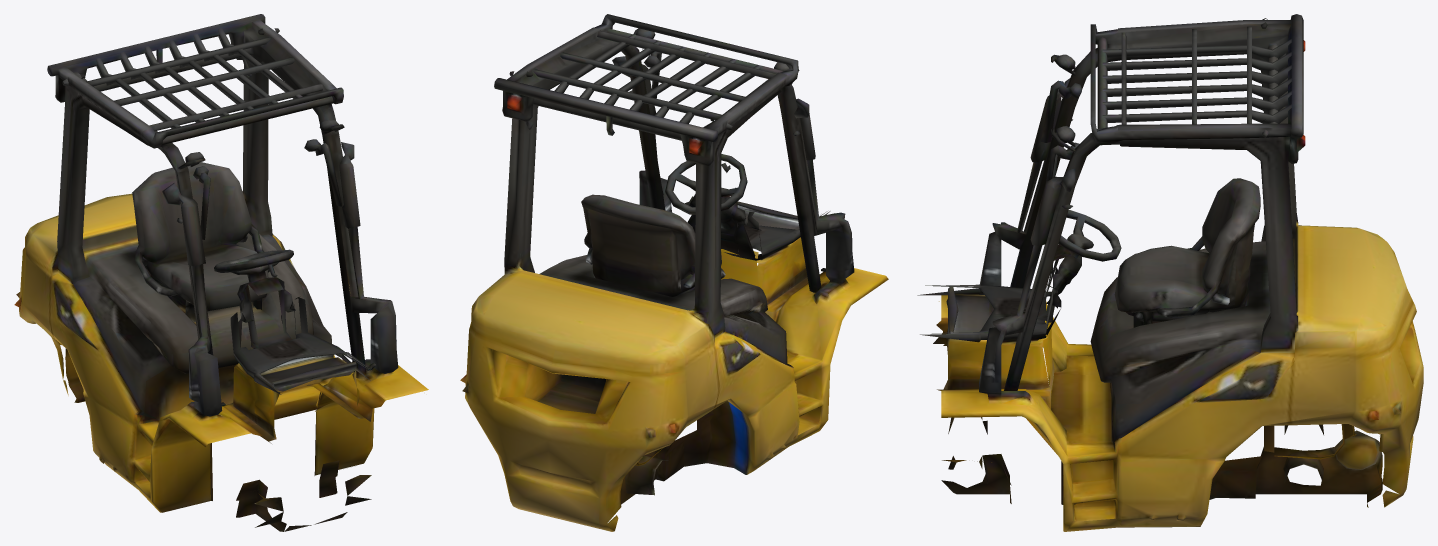
3 renders of one model, left to right at view 1: azimuth 30°, elevation 25°; view 2: azimuth 150°, elevation 25°; view 3: azimuth 270°, elevation 25°, orthographic. The views are drawn at different scales.
Visible parts, largest first — view 1: tripo_node_ca7a368f-70aa-4902-95c2-dfdd26212d61, roof, steer; view 2: tripo_node_ca7a368f-70aa-4902-95c2-dfdd26212d61, roof, steer; view 3: tripo_node_ca7a368f-70aa-4902-95c2-dfdd26212d61, roof, steer.
Part boxes in pixels (left/top/right/bottom): tripo_node_ca7a368f-70aa-4902-95c2-dfdd26212d61: left=14, top=60, right=428, bottom=531; roof: left=47, top=14, right=344, bottom=198; steer: left=207, top=249, right=293, bottom=305; tripo_node_ca7a368f-70aa-4902-95c2-dfdd26212d61: left=460, top=53, right=888, bottom=531; roof: left=494, top=14, right=799, bottom=165; steer: left=665, top=154, right=747, bottom=217; tripo_node_ca7a368f-70aa-4902-95c2-dfdd26212d61: left=917, top=70, right=1423, bottom=531; roof: left=1051, top=14, right=1305, bottom=185; steer: left=1053, top=210, right=1128, bottom=295.
Size of the model in its own units: 1.33 by 2.11 by 2.35.
1 material, 1 textured.
